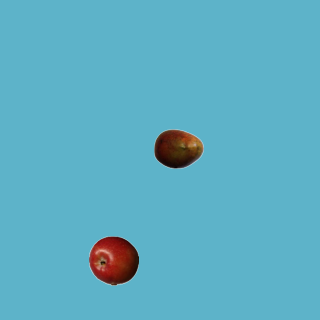Apple Braeburn: (88, 235, 138, 285)
Mango Red: (153, 123, 203, 173)
